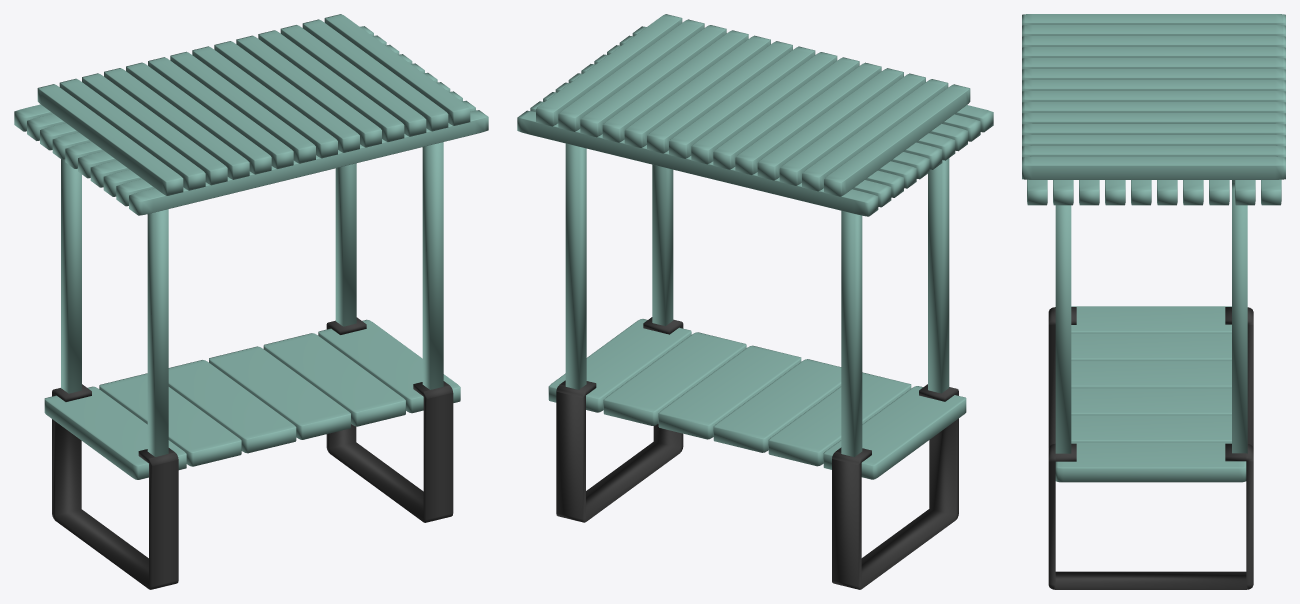
Rendered from ZonaEntrega.fbx.
The picture shows the model from 3 angles, left to right: view 1: azimuth 30°, elevation 25°; view 2: azimuth 150°, elevation 25°; view 3: azimuth 270°, elevation 25°; orthographic projection.
Visible parts, largest first — view 1: Cube.008, Cube, Cube.003; view 2: Cube.008, Cube, Cube.003; view 3: Cube.008, Cube.003, Cube.
Boxes of the visible parts, x1,y1,x2,y2 form: Cube.008: (14,14,488,479); Cube: (61,142,443,456); Cube.003: (52,317,453,589); Cube.008: (517,14,993,479); Cube: (565,143,949,457); Cube.003: (556,317,958,589); Cube.008: (1022,14,1285,482); Cube.003: (1048,307,1253,589); Cube: (1055,180,1247,453).
Bounding box in the file's own units: 433 × 494 × 277.
